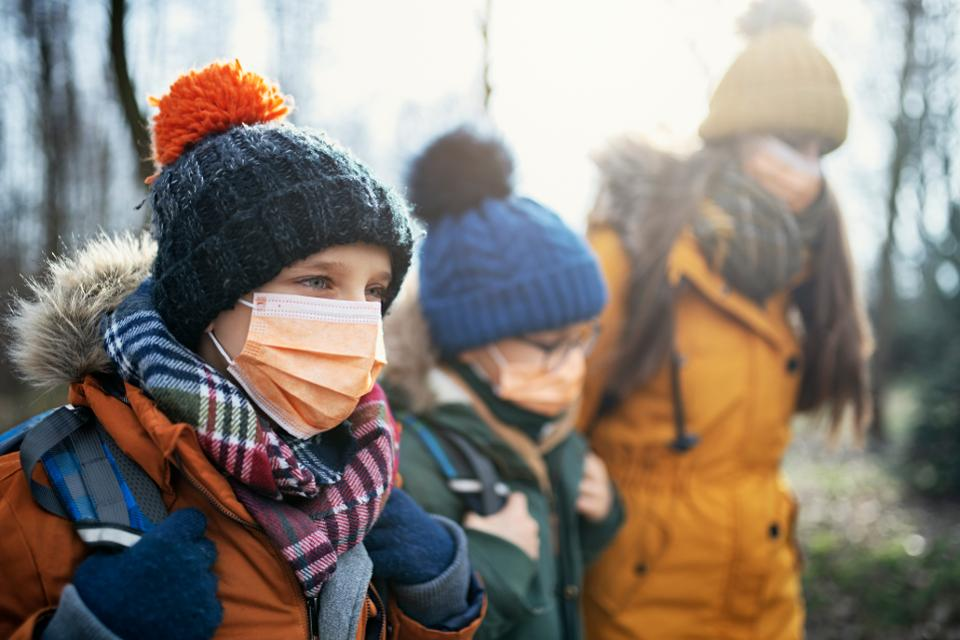surgical: (226, 288, 401, 438)
